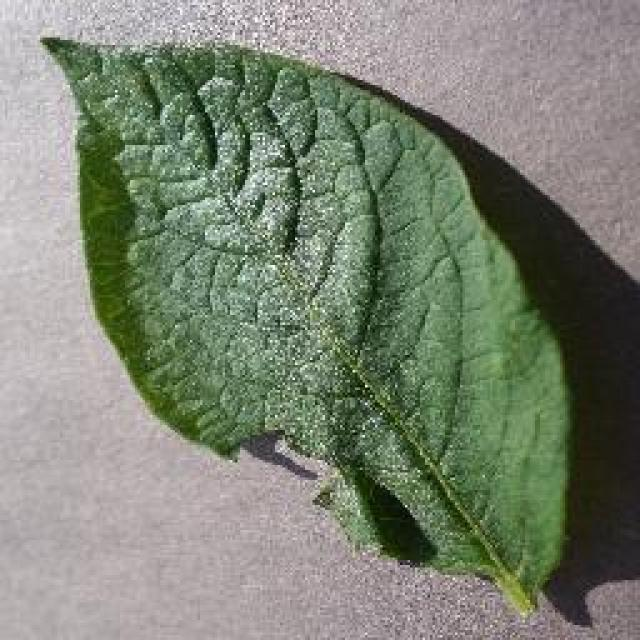healthy: (35, 30, 580, 620)
